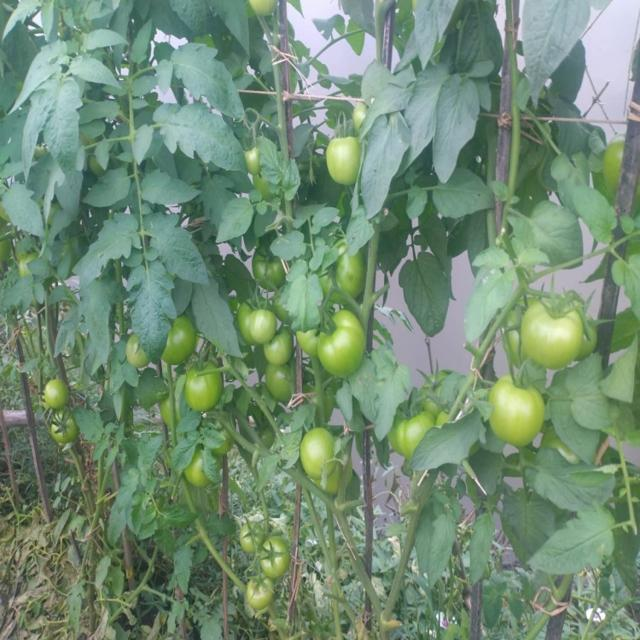tomato: (514, 291, 593, 375), (479, 381, 554, 452), (297, 430, 365, 498), (316, 313, 377, 385), (385, 404, 463, 459), (590, 134, 640, 211), (314, 248, 365, 302), (183, 354, 222, 416), (156, 316, 203, 366), (315, 137, 367, 179), (265, 361, 300, 420), (251, 244, 289, 293), (239, 299, 277, 343), (503, 293, 528, 354), (347, 97, 380, 139), (254, 538, 289, 576), (122, 333, 153, 370), (261, 333, 296, 362), (247, 576, 275, 612), (210, 427, 237, 461), (241, 521, 269, 552), (293, 324, 324, 352), (158, 385, 182, 421), (249, 1, 284, 23), (44, 377, 72, 403), (51, 417, 80, 442), (187, 461, 211, 491), (15, 252, 39, 277), (253, 167, 274, 194), (242, 148, 263, 174)
